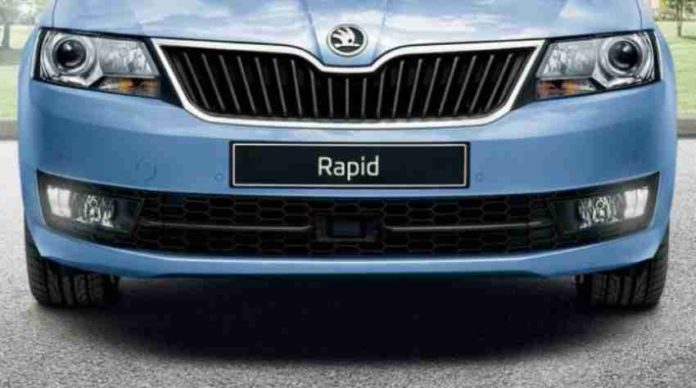number_plate: (218, 130, 487, 194)
